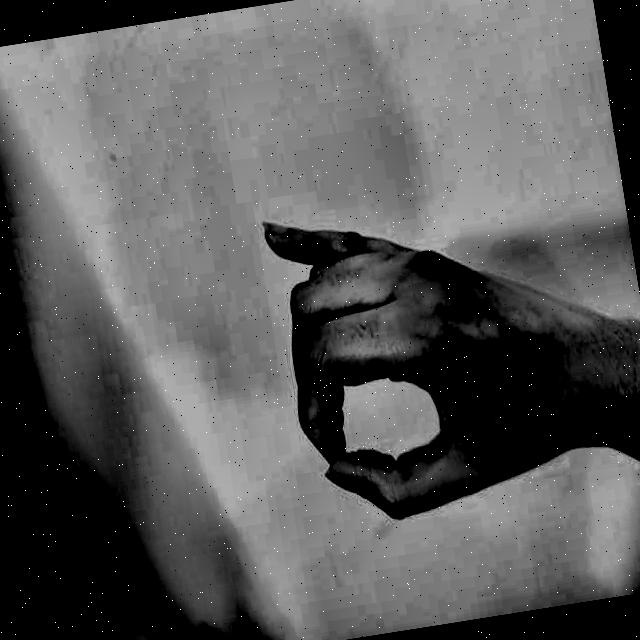Ou: (228, 140, 602, 560)
